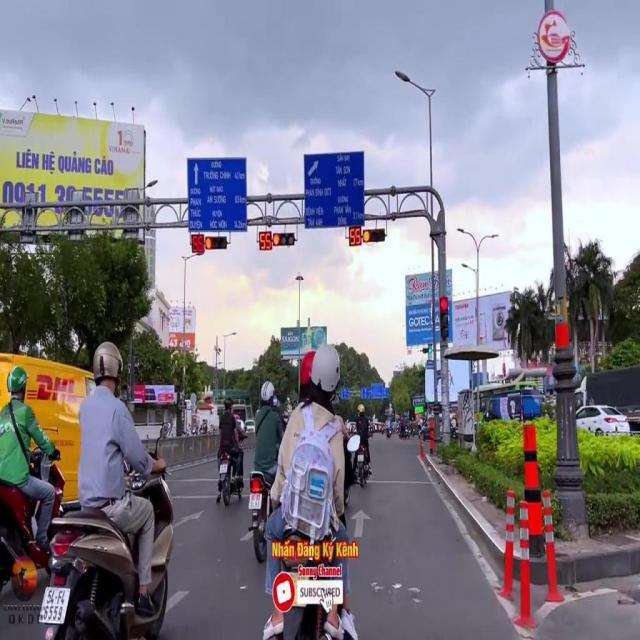khac: (304, 151, 366, 232), (186, 156, 248, 232), (371, 382, 383, 398)
